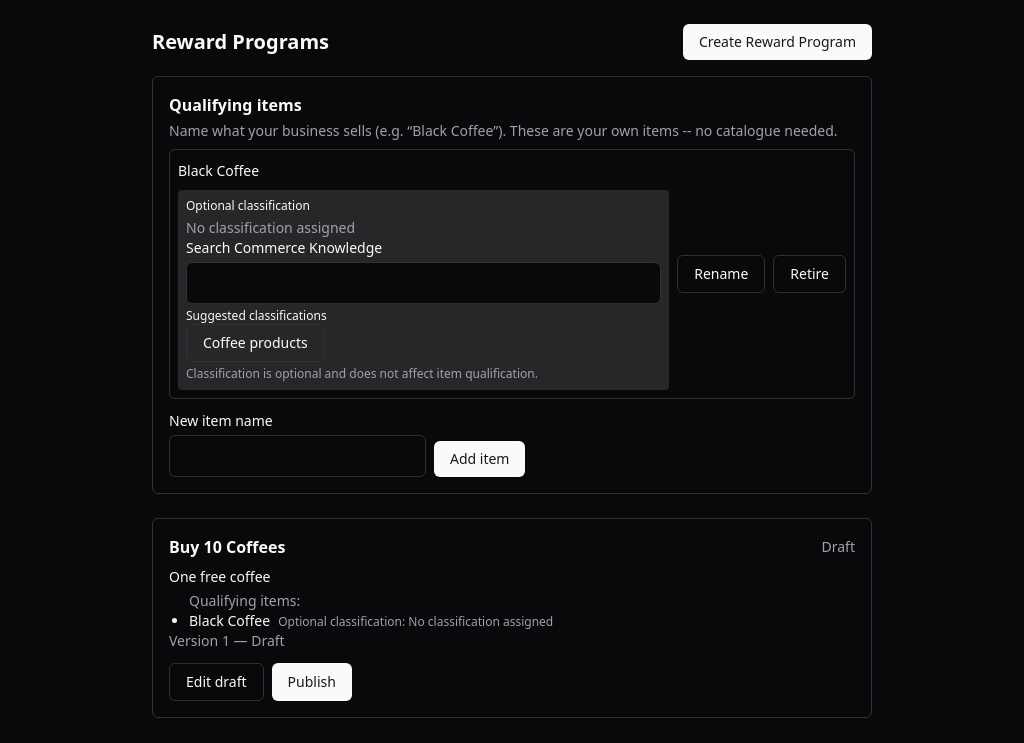
Scenario: RewardProgramManagementPage (PLATFORM-BASELINE-005A) › PLATFORM-BASELINE-013B: Business-owned qualifying-item selection › hydrates an existing draft's item selections as checked when the item is still active
Click the button "Edit draft" at (216, 682), box [169,663,264,701]
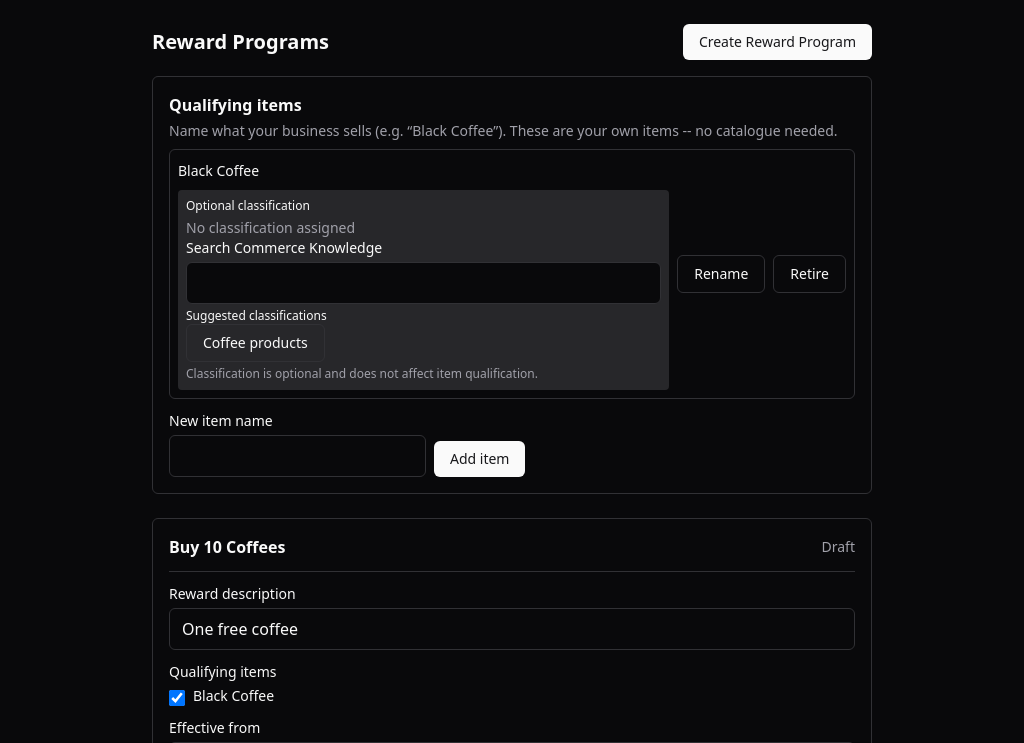
Check: the checkbox labelled "Black Coffee" is checked, box [169,690,185,706]
